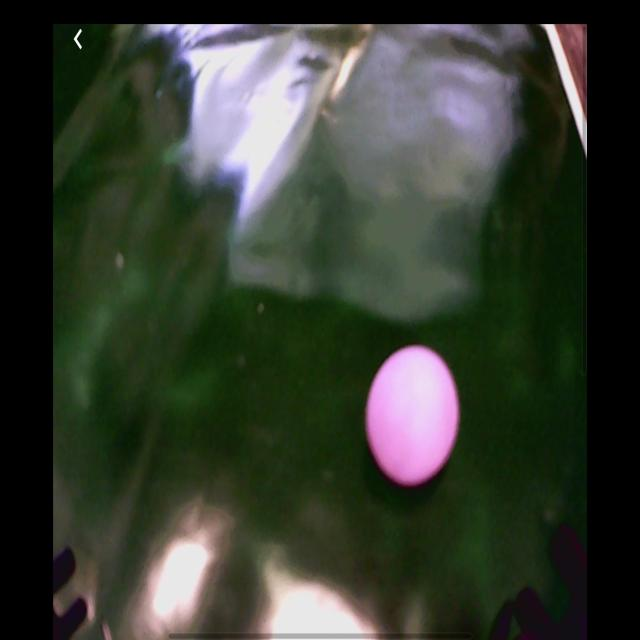ball: (365, 345, 461, 485)
